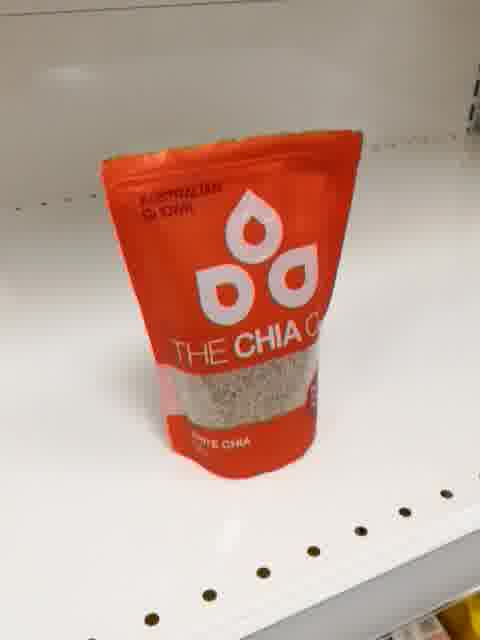whitechia: (100, 129, 367, 481)
